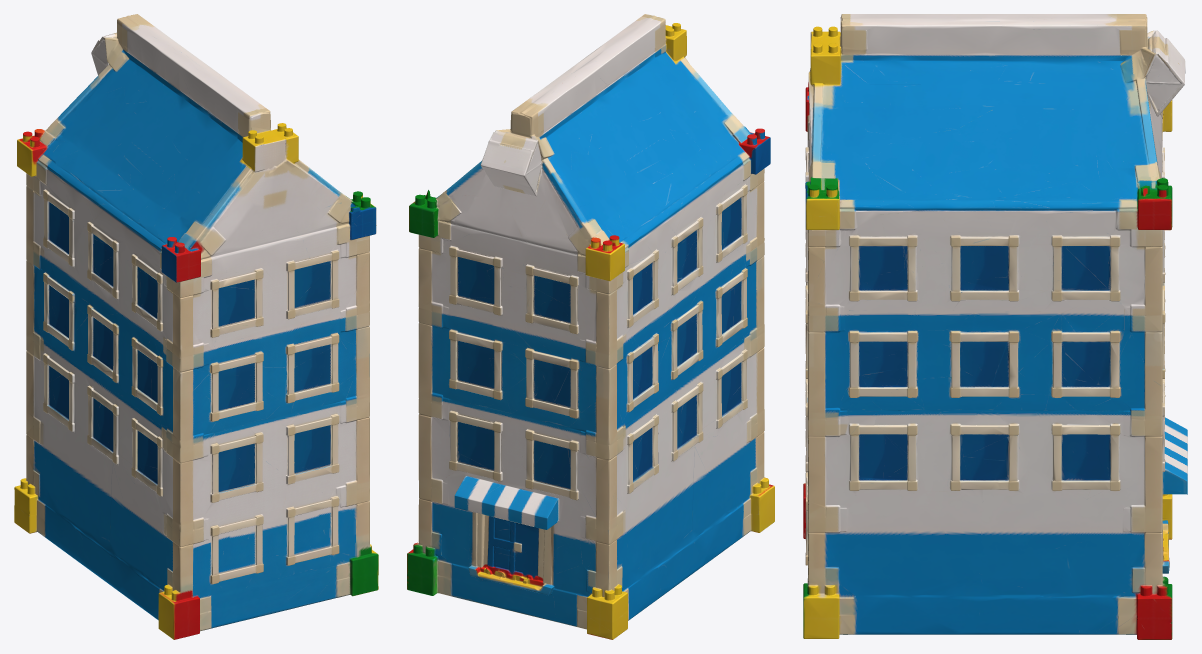
The model's file is meshy.glb.
3 renders of one model, left to right at view 1: azimuth 30°, elevation 25°; view 2: azimuth 150°, elevation 25°; view 3: azimuth 270°, elevation 25°, orthographic. The views are drawn at different scales.
Size of the model in its own units: 0.8334 by 1.9 by 1.17.
Materials: 1 (1 with a texture image).
